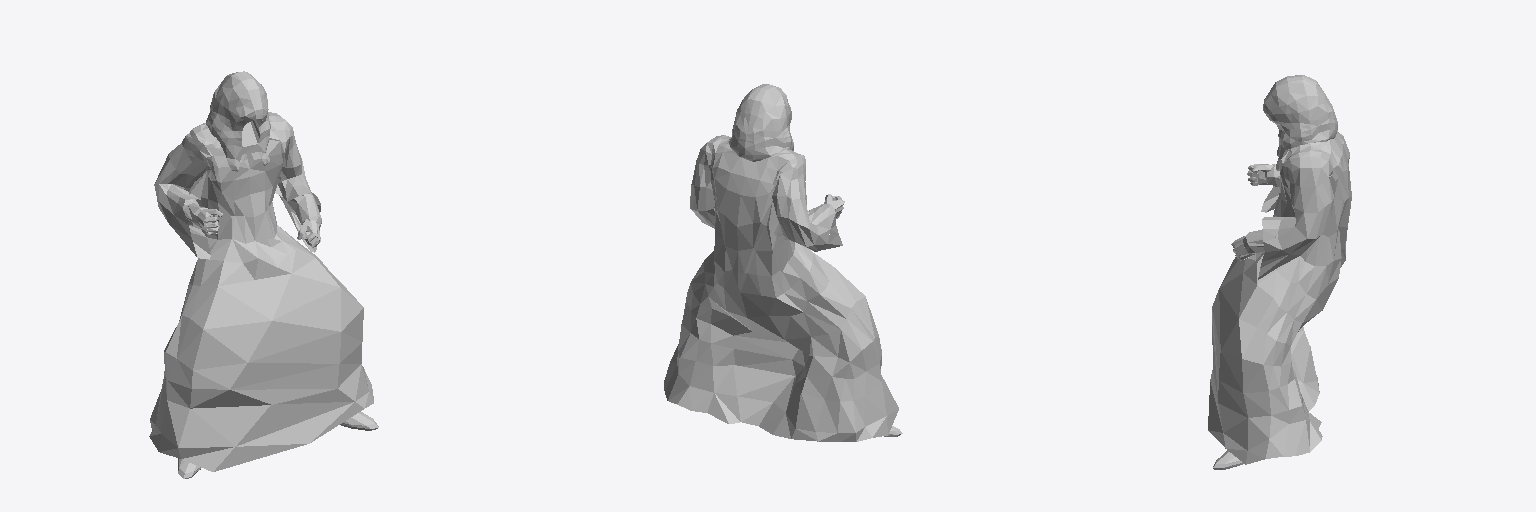
The model's file is Rider_Animate_Grab_Glide_35.obj.
3 views of the same model, side by side, from view 1: azimuth 30°, elevation 25°; view 2: azimuth 150°, elevation 25°; view 3: azimuth 270°, elevation 25° (orthographic).
Parts seen in each view (by area): view 1: dm_nazgulrobe_ride_241108; view 2: dm_nazgulrobe_ride_241108; view 3: dm_nazgulrobe_ride_241108.
Boxes of the visible parts, <box> form: dm_nazgulrobe_ride_241108: <box>149,71,378,478</box>; dm_nazgulrobe_ride_241108: <box>664,84,902,441</box>; dm_nazgulrobe_ride_241108: <box>1208,75,1351,469</box>.
Size of the model in its own units: 0.4267 by 0.6643 by 0.2452.